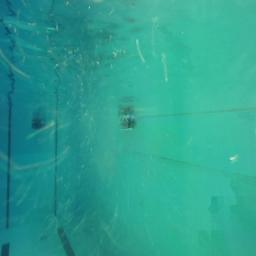Full: (32, 120, 46, 130)
Side: (30, 116, 47, 132)
front: (118, 115, 135, 131), (118, 116, 134, 131)
